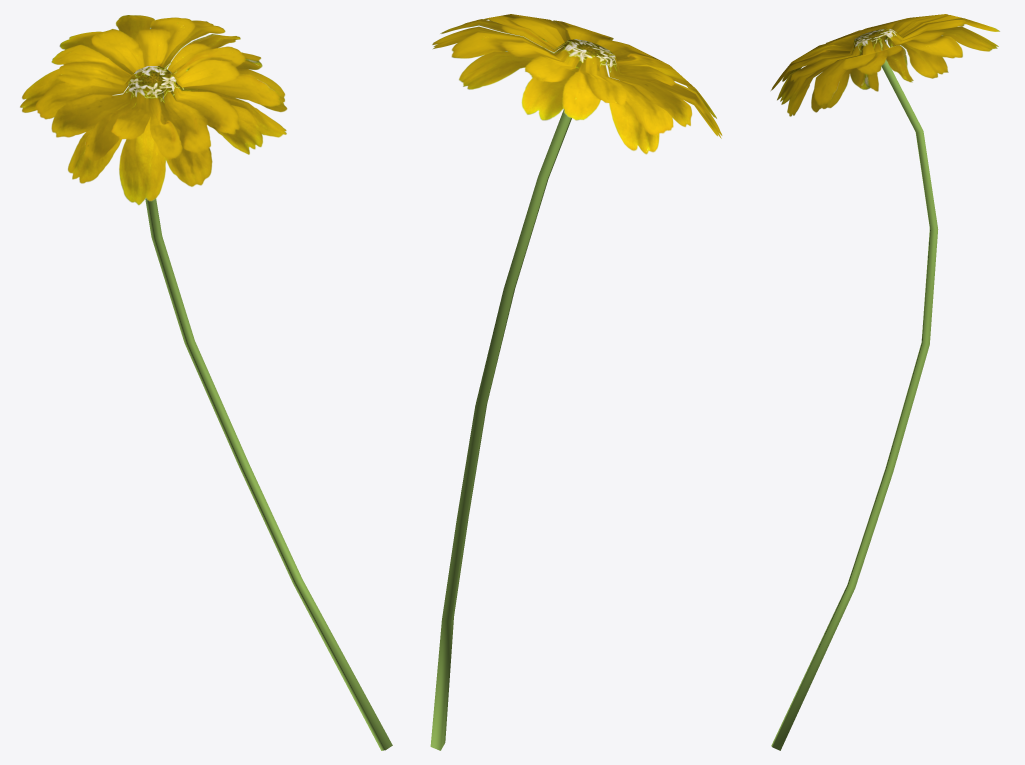
Rendered from flowers.glb.
3 views of the same model, side by side, from view 1: azimuth 30°, elevation 25°; view 2: azimuth 150°, elevation 25°; view 3: azimuth 270°, elevation 25° (orthographic). The views are drawn at different scales.
Visible parts, largest first — view 1: fleur, tige; view 2: fleur, tige; view 3: fleur, tige.
Part boxes in pixels (left/top/right/bottom): fleur: left=20, top=15, right=287, bottom=205; tige: left=145, top=198, right=392, bottom=750; fleur: left=432, top=14, right=722, bottom=154; tige: left=430, top=109, right=571, bottom=750; fleur: left=770, top=14, right=1000, bottom=116; tige: left=771, top=60, right=938, bottom=750.
Bounding box in the file's own units: 0.8568 × 1.92 × 0.673.
Materials: 2 (1 with a texture image).
